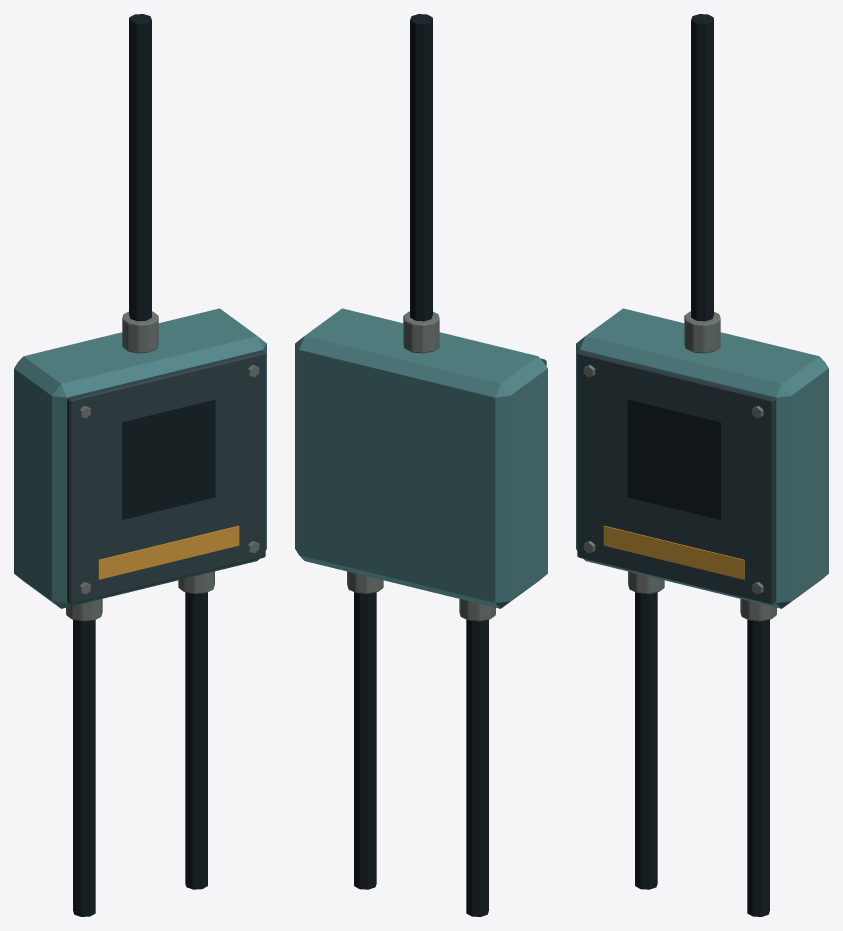
The model's file is junction-box.glb.
3 renders of one model, left to right at view 1: azimuth 30°, elevation 25°; view 2: azimuth 150°, elevation 25°; view 3: azimuth 330°, elevation 25°, orthographic.
Parts seen in each view (by area): view 1: junction-box__junction-box__steel, junction-box__junction-box__petrol, junction-box__junction-box__rubber, junction-box__junction-box__decal-indigo, junction-box__junction-box__hardware, junction-box__junction-box__amber; view 2: junction-box__junction-box__petrol, junction-box__junction-box__rubber, junction-box__junction-box__hardware; view 3: junction-box__junction-box__steel, junction-box__junction-box__petrol, junction-box__junction-box__rubber, junction-box__junction-box__decal-indigo, junction-box__junction-box__hardware, junction-box__junction-box__amber.
Boxes of the visible parts, x1,y1,x2,y2 form: junction-box__junction-box__steel: (67,350,265,604); junction-box__junction-box__petrol: (14,308,266,608); junction-box__junction-box__rubber: (73,14,207,916); junction-box__junction-box__decal-indigo: (122,399,215,519); junction-box__junction-box__hardware: (66,311,259,621); junction-box__junction-box__amber: (98,525,239,579); junction-box__junction-box__petrol: (295,308,547,608); junction-box__junction-box__rubber: (354,14,488,916); junction-box__junction-box__hardware: (347,311,495,621); junction-box__junction-box__steel: (577,350,775,604); junction-box__junction-box__petrol: (576,308,828,608); junction-box__junction-box__rubber: (635,14,769,916); junction-box__junction-box__decal-indigo: (627,399,720,519); junction-box__junction-box__hardware: (583,311,776,621); junction-box__junction-box__amber: (603,525,744,579).
Bounding box in the file's own units: 0.46 × 1.8 × 0.201.
